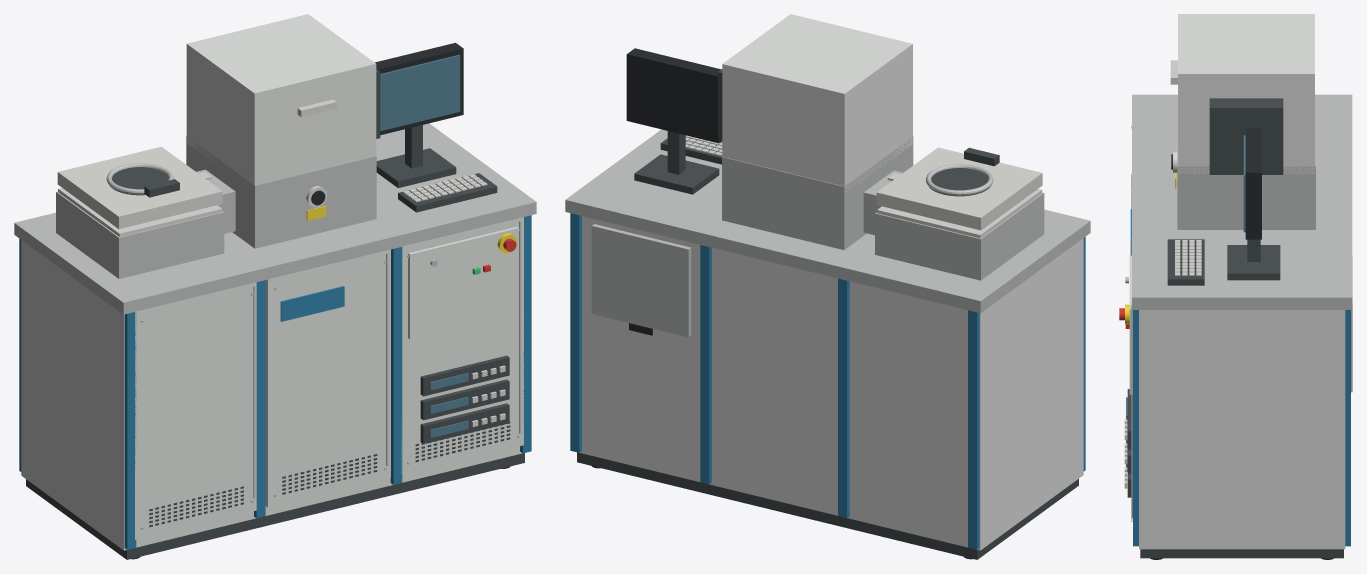
File: oxford-icp180.gltf
The picture shows the model from 3 angles, left to right: view 1: azimuth 30°, elevation 25°; view 2: azimuth 150°, elevation 25°; view 3: azimuth 270°, elevation 25°; orthographic projection.
Visible parts, largest first — view 1: Base cabinet, Front service door 0, Front service door 1, ICP source cover, Stainless deck, Front service door 2, Process chamber shell, Control panel, Load lock body, Load lid, Bottom plinth, Console screen (+19 smaller); view 2: Base cabinet, ICP source cover, Stainless deck, Process chamber shell, Rear services panel, Load lock body, Console monitor, Load lid, Bottom plinth, Rear upright 0.27, Rear upright 0.78, Rear upright -0.78 (+8 smaller); view 3: Base cabinet, Stainless deck, ICP source cover, Process chamber shell, Automatic matching unit, Bottom plinth, Console monitor, Console foot, Blue upright 0.78, Rear upright 0.78, Console keyboard, Control panel (+3 smaller).
Part boxes in pixels (x1,y1,x2,y2): Base cabinet: (21,240,522,550); Front service door 0: (135,282,256,539); Front service door 1: (265,249,390,507); ICP source cover: (186,14,376,190); Stainless deck: (14,123,536,314); Front service door 2: (401,217,523,474); Process chamber shell: (186,135,376,248); Control panel: (408,227,518,339); Load lock body: (56,191,224,278); Load lid: (57,146,222,228); Bottom plinth: (26,453,524,559); Console screen: (380,55,460,131); Base cabinet: (579,216,1083,550); ICP source cover: (722,14,912,192); Stainless deck: (565,129,1090,313); Process chamber shell: (722,136,913,249); Rear services panel: (591,224,691,337); Load lock body: (875,192,1044,280); Console monitor: (626,48,722,143); Load lid: (876,147,1042,230); Bottom plinth: (577,452,1078,559); Rear upright 0.27: (700,245,711,484); Rear upright 0.78: (570,213,581,452); Rear upright -0.78: (968,310,979,549); Base cabinet: (1139,310,1345,549); Stainless deck: (1132,94,1352,309); ICP source cover: (1178,14,1314,174); Process chamber shell: (1177,106,1315,229); Automatic matching unit: (1209,98,1283,174); Bottom plinth: (1140,549,1343,558); Console monitor: (1245,128,1261,239); Console foot: (1227,245,1280,280); Blue upright 0.78: (1133,310,1138,546); Rear upright 0.78: (1345,310,1350,546); Console keyboard: (1167,239,1204,285); Control panel: (1129,255,1132,394).
Bounding box in the file's own units: 1.63 × 1.59 × 0.7915.
